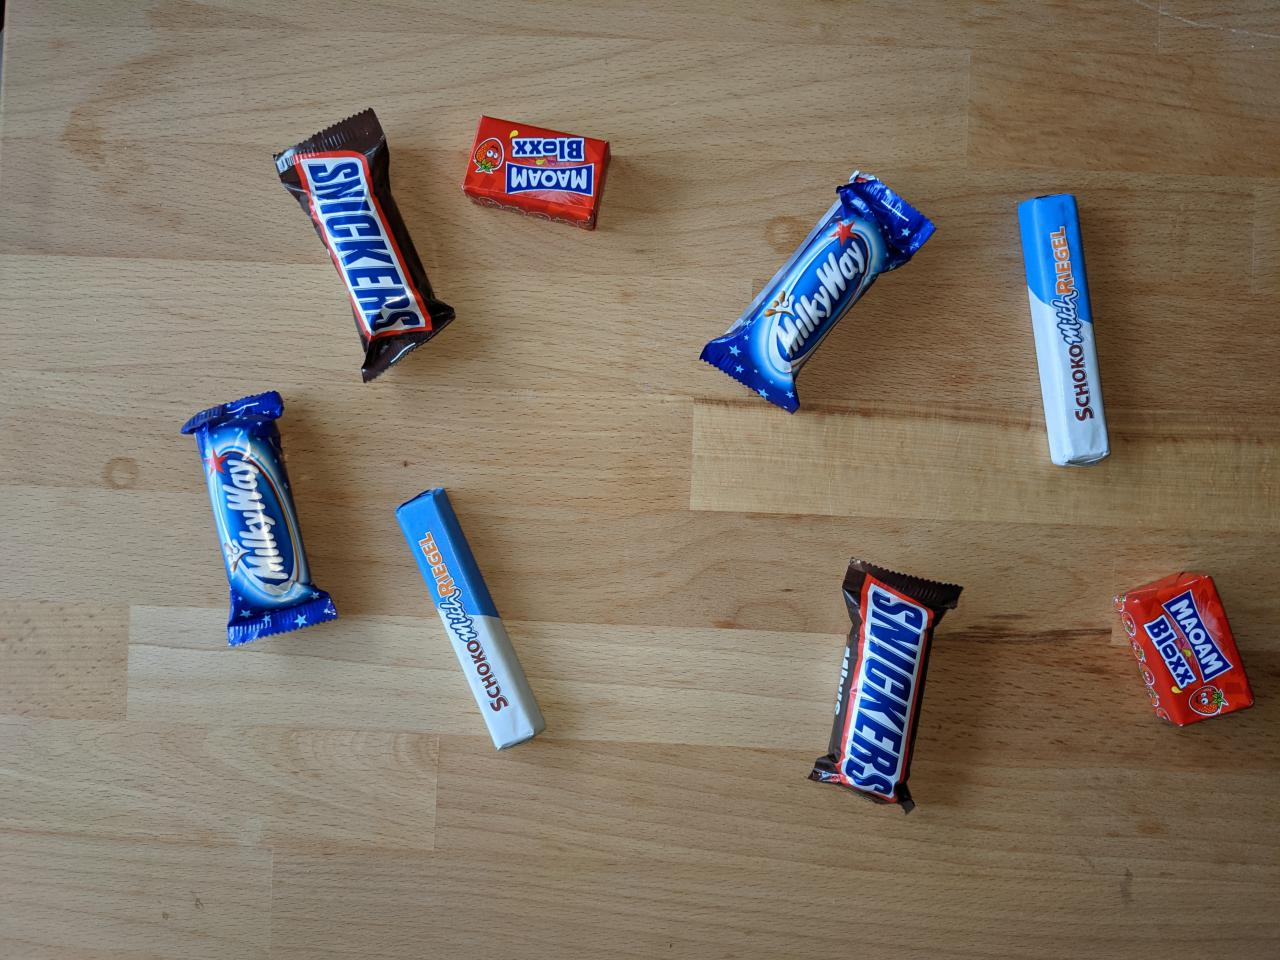MAOAM: (1108, 564, 1258, 731), (458, 109, 617, 235)
MilkyWay: (693, 164, 942, 418), (176, 385, 343, 654)
Schokoriegel: (390, 483, 552, 757), (1010, 189, 1115, 473)
Snickers: (268, 104, 461, 390), (802, 552, 970, 818)
